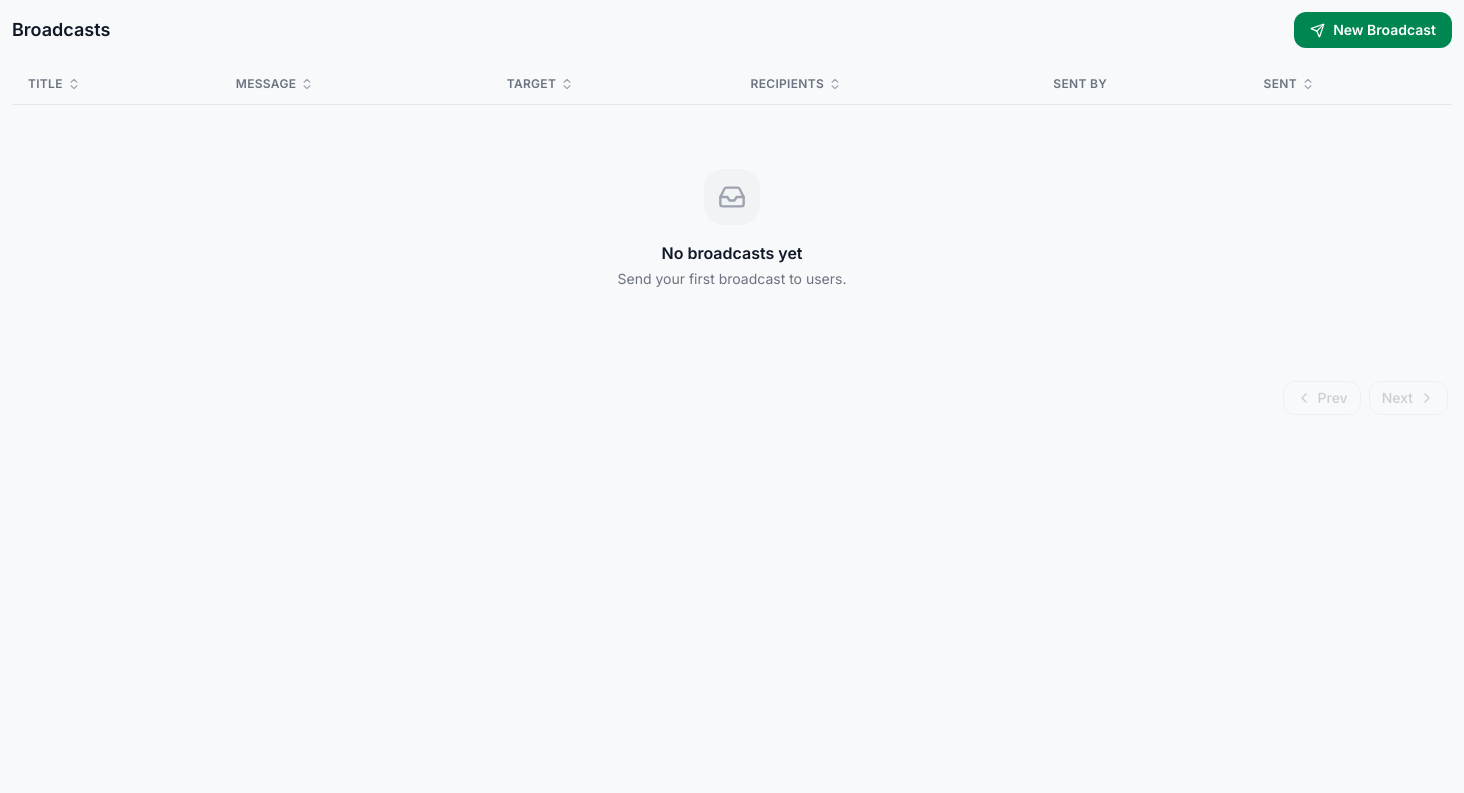
Scenario: BroadcastsPage › hides the form on cancel
This screenshot has width=1464, height=793.
Click the button with test id "new-broadcast-btn" at (1373, 30), box [1294, 12, 1452, 48]
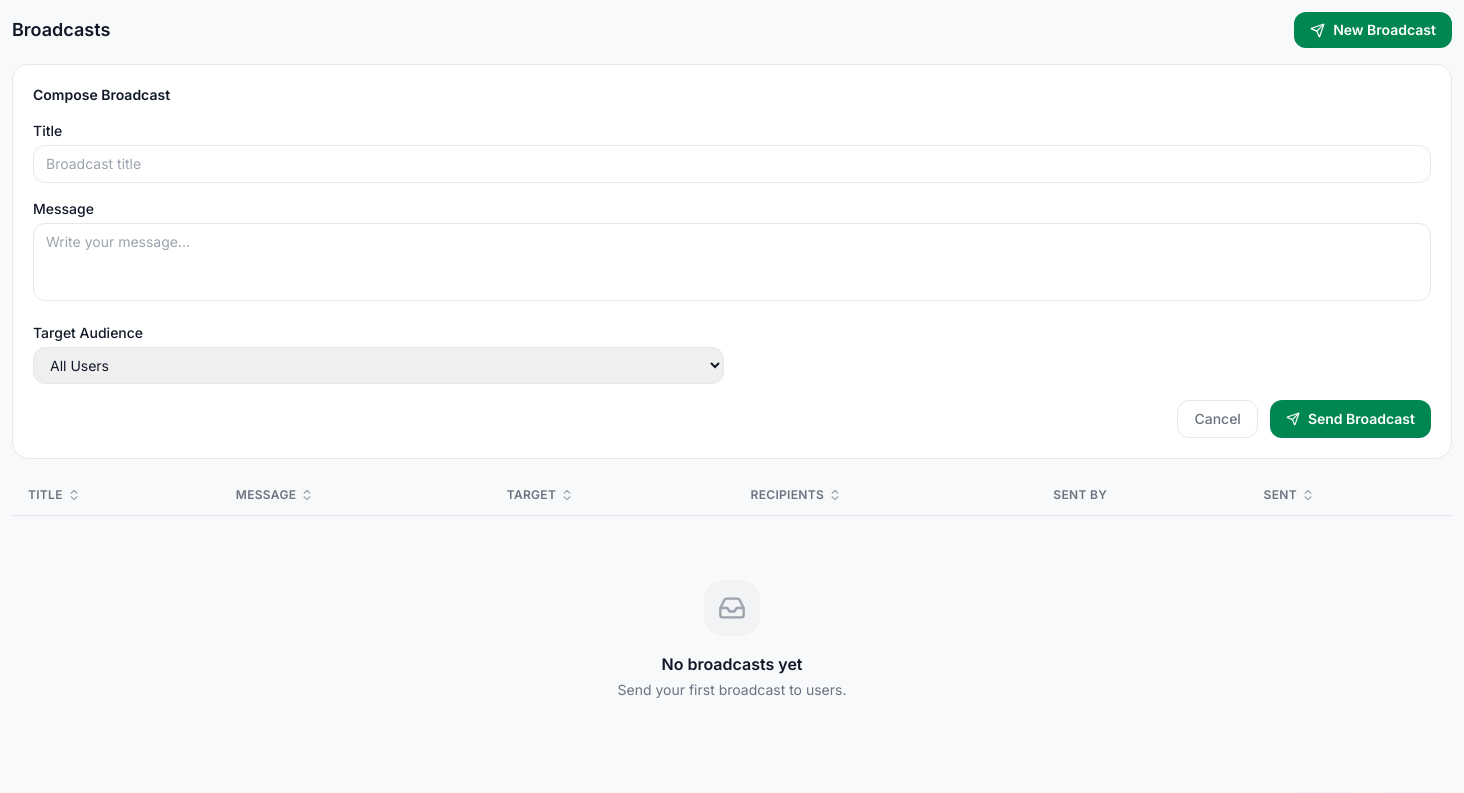
Now the element with test id "broadcast-form-card" is shown, box [12, 64, 1452, 459]
Click the button "Cancel" at (1218, 419), box [1177, 400, 1258, 438]
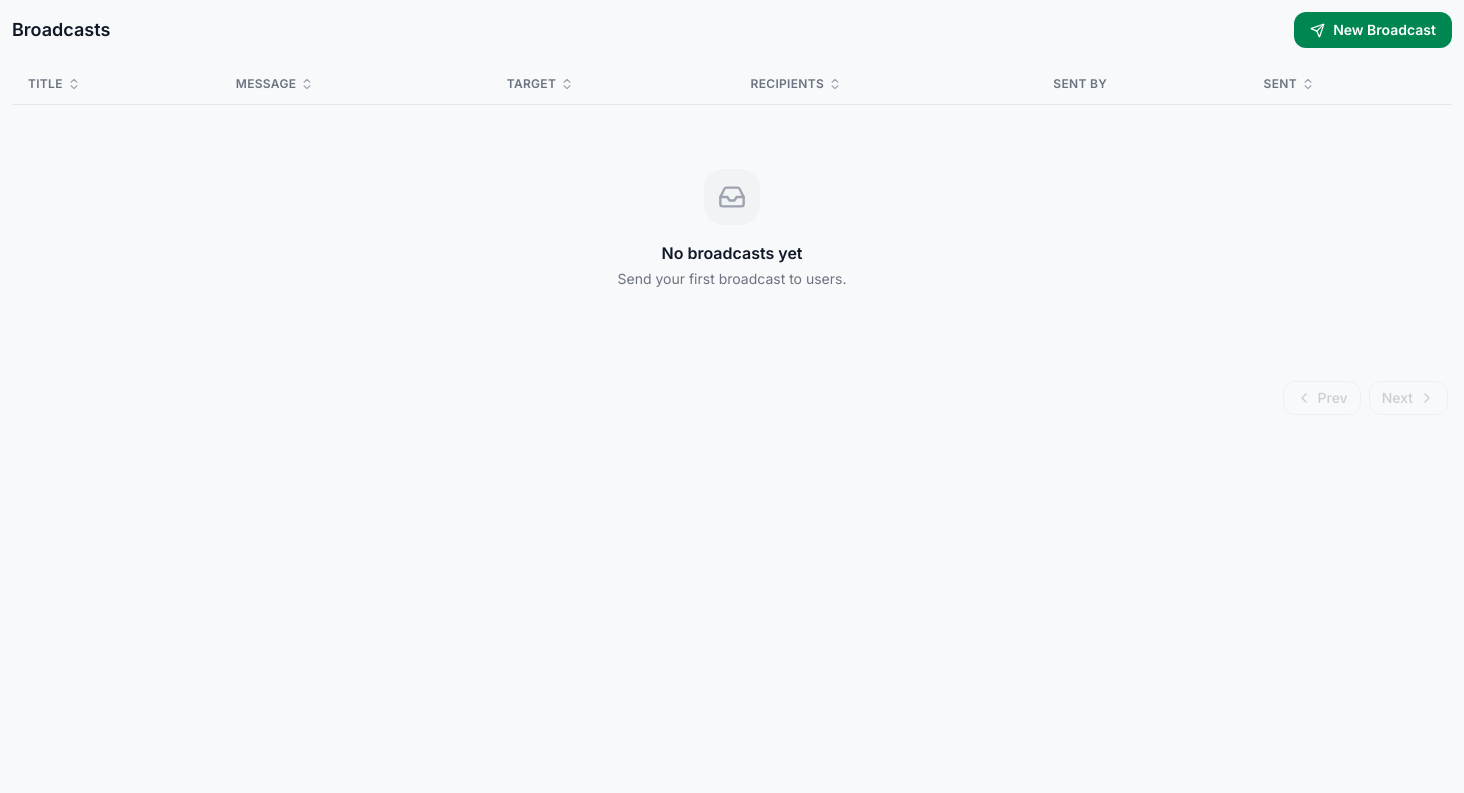
Now the element with test id "broadcast-form-card" is gone
